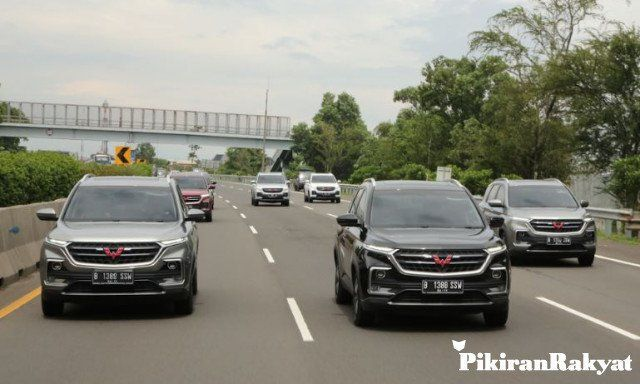mobil: (37, 158, 225, 324), (326, 179, 517, 334), (477, 166, 604, 265), (244, 162, 297, 215)
